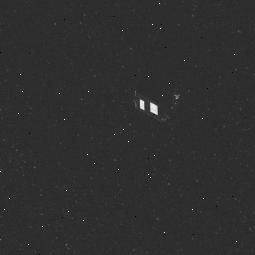proba_3_ocs: (124, 76, 187, 128)
